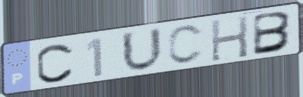1: (86, 36, 104, 78)
B: (251, 10, 295, 58)
C: (35, 42, 76, 85), (166, 23, 206, 66)
H: (209, 14, 250, 63)
U: (120, 25, 166, 74)
